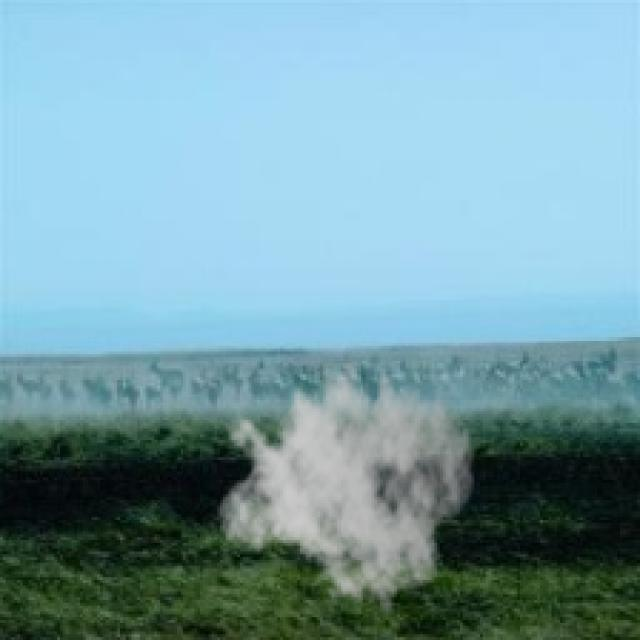smoke: (214, 340, 477, 614)
